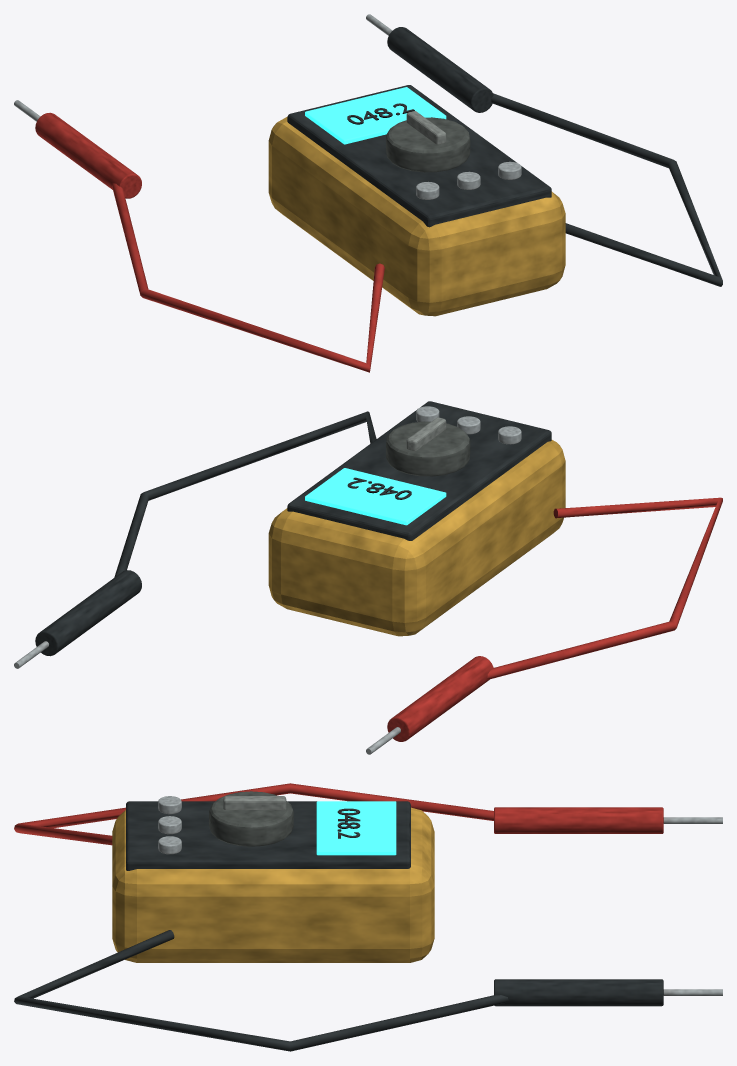
File: GR_DigitalMultimeter_04.glb
3 views of the same model, one above another, from view 1: azimuth 30°, elevation 25°; view 2: azimuth 150°, elevation 25°; view 3: azimuth 270°, elevation 25° (orthographic).
Parts seen in each view (by area): view 1: Static; view 2: Static; view 3: Static.
Boxes of the visible parts, <box> form: Static: <box>14,14,722,372</box>; Static: <box>14,401,722,754</box>; Static: <box>14,783,722,1051</box>.
Size of the model in its own units: 0.3657 by 0.0885 by 0.4179.
2 materials, 2 textured.
